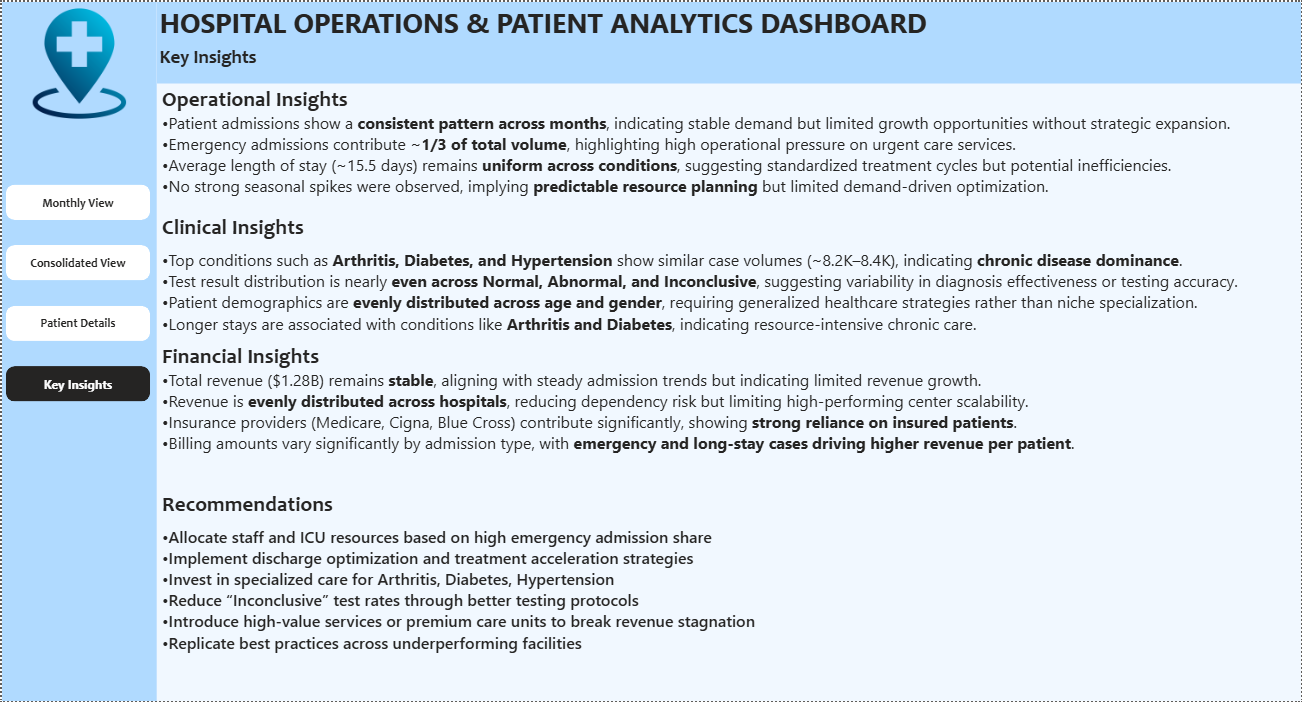

What the dashboard file says about the page in this screenshot:
{"tool":"powerbi","page":{"name":"Key Insights","canvas":[2600,1400],"ordinal":3},"visuals":[{"type":"shape","box":[0,0,309.4,1700.6],"z":0},{"type":"shape","box":[310,0,2290.5,163],"z":1000},{"type":"textbox","box":[310,0,1699.8,98.9],"z":2000},{"type":"textbox","box":[309.6,83.1,271.9,62.9],"z":3000},{"type":"pageNavigator","title":"Menu","box":[7.6,365,289.5,435.5],"z":4000},{"type":"textbox","box":[314.1,163,2250.9,810.1],"z":5000},{"type":"textbox","box":[315,972.5,2262.5,390],"z":6000},{"type":"image","box":[0,7.6,309.6,231.6],"z":7000}]}

Visuals, with their boxes in screenshot pixels (x1, y1, x2, y2), scaled from the page's 2600x1400 canvas onto the 1302x702 screenshot:
shape: 0, 0, 155, 701
shape: 155, 0, 1301, 82
textbox: 155, 0, 1006, 50
textbox: 155, 42, 291, 73
"Menu" pageNavigator: 4, 183, 149, 401
textbox: 157, 82, 1284, 488
textbox: 158, 488, 1291, 683
image: 0, 4, 155, 120
